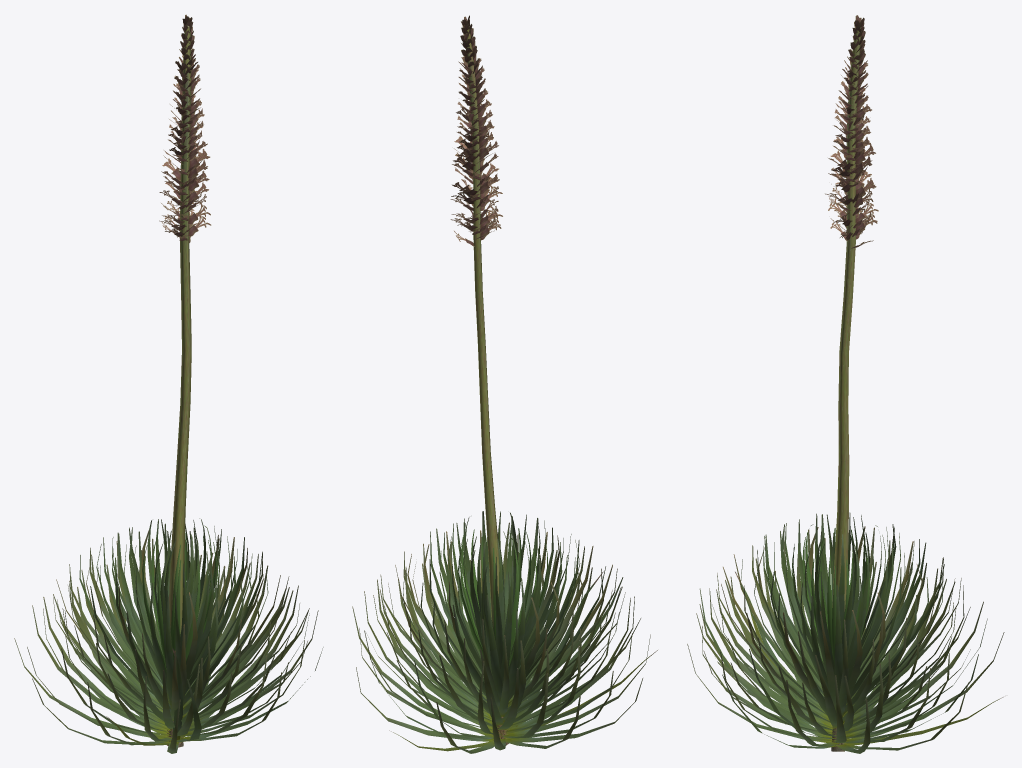
Rendered from AgaveStricta.glb.
3 views of the same model, side by side, from view 1: azimuth 30°, elevation 25°; view 2: azimuth 150°, elevation 25°; view 3: azimuth 270°, elevation 25° (orthographic). The views are drawn at different scales.
Visible parts, largest first — view 1: Hedgehog_Agave__Realistic_LOD3; view 2: Hedgehog_Agave__Realistic_LOD3; view 3: Hedgehog_Agave__Realistic_LOD3.
Part boxes in pixels (x1,y1,x2,y2): Hedgehog_Agave__Realistic_LOD3: [14, 14, 323, 753]; Hedgehog_Agave__Realistic_LOD3: [352, 15, 657, 753]; Hedgehog_Agave__Realistic_LOD3: [687, 15, 1004, 753].
Bounding box in the file's own units: 0.8477 × 2.12 × 0.8286.
Materials: 1 (1 with a texture image).
